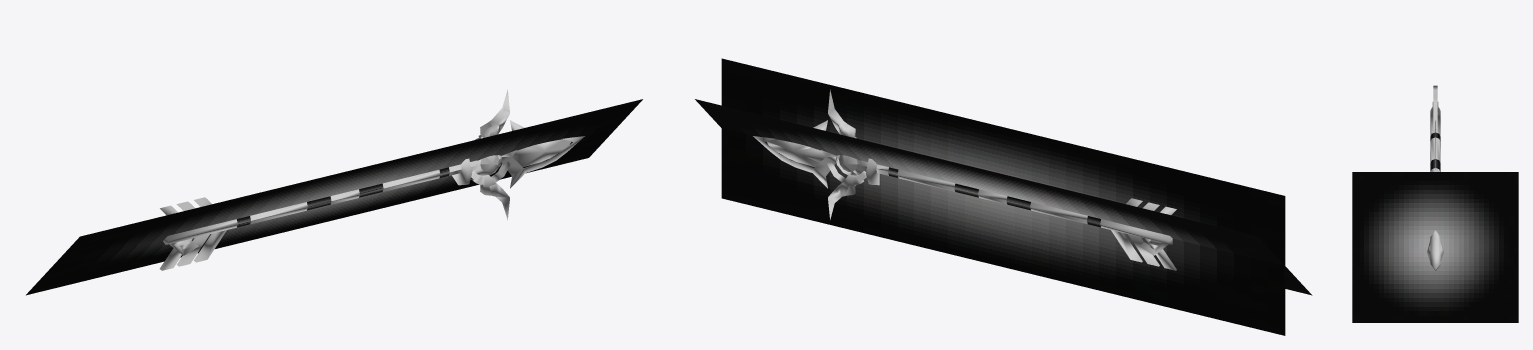
File: Maiz con Arrow_mdx.gltf
The picture shows the model from 3 angles, left to right: view 1: azimuth 30°, elevation 25°; view 2: azimuth 150°, elevation 25°; view 3: azimuth 270°, elevation 25°; orthographic projection. The views are drawn at different scales.
Parts seen in each view (by area): view 1: Maíz con ArrowPDR; view 2: Maíz con ArrowPDR; view 3: Maíz con ArrowPDR.
Part boxes in pixels (x1,y1,x2,y2): Maíz con ArrowPDR: (26,89,642,295); Maíz con ArrowPDR: (695,58,1312,335); Maíz con ArrowPDR: (1352,85,1518,322).
Bounding box in the file's own units: 119 × 39.25 × 39.25.
